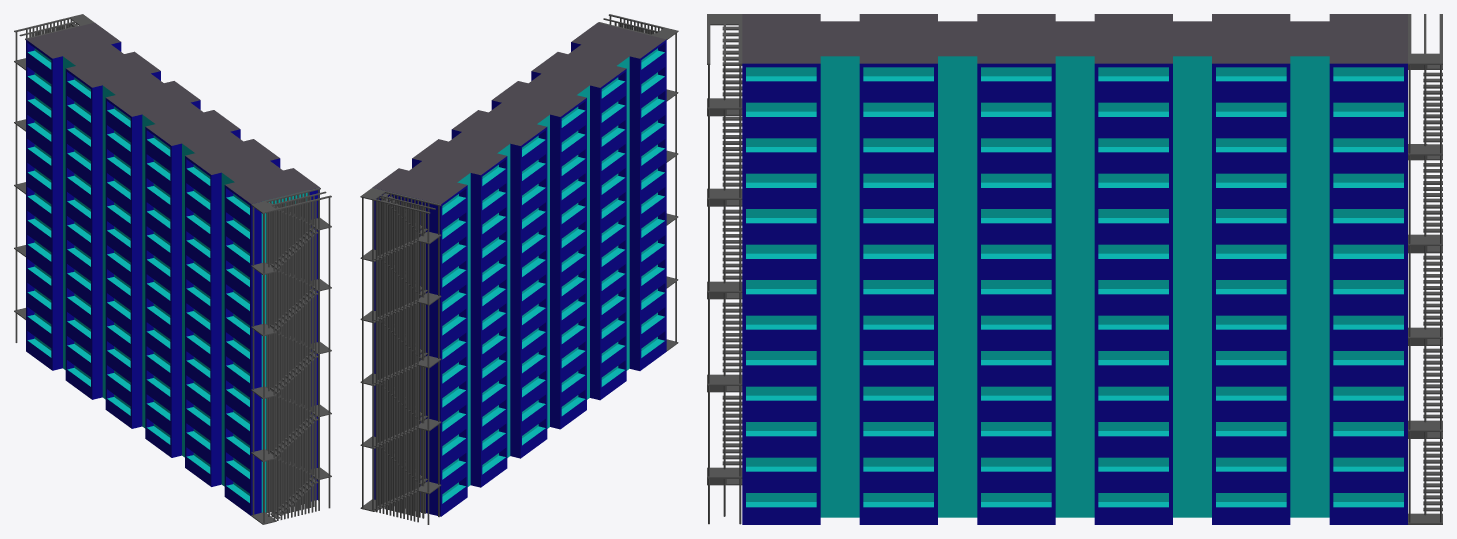
File: apartment.fbx
3 renders of one model, left to right at view 1: azimuth 30°, elevation 25°; view 2: azimuth 150°, elevation 25°; view 3: azimuth 270°, elevation 25°, orthographic. The views are drawn at different scales.
Visible parts, largest first — view 1: 立方体, 立方体.001, 立方体.005, 立方体.002, 立方体.003, 立方体.004; view 2: 立方体, 立方体.003, 立方体.005, 立方体.004, 立方体.002, 立方体.001; view 3: 立方体, 立方体.005, 立方体.001, 立方体.003, 立方体.004, 立方体.002.
Boxes of the visible parts, x1,y1,x2,y2 form: 立方体: (26,22,282,486); 立方体.001: (251,251,331,524); 立方体.005: (224,168,319,515); 立方体.002: (251,187,331,275); 立方体.003: (14,92,25,342); 立方体.004: (14,14,94,93); 立方体: (372,44,629,516); 立方体.003: (360,249,441,524); 立方体.005: (571,22,666,370); 立方体.004: (360,187,441,273); 立方体.002: (598,14,678,101); 立方体.001: (666,91,678,351); 立方体: (820,14,1407,524); 立方体.005: (742,14,820,524); 立方体.001: (707,117,742,524); 立方体.003: (1408,144,1442,524); 立方体.004: (1408,14,1442,155); 立方体.002: (707,14,742,155).
Bounding box in the file's own units: 3007 × 13000 × 18795.
